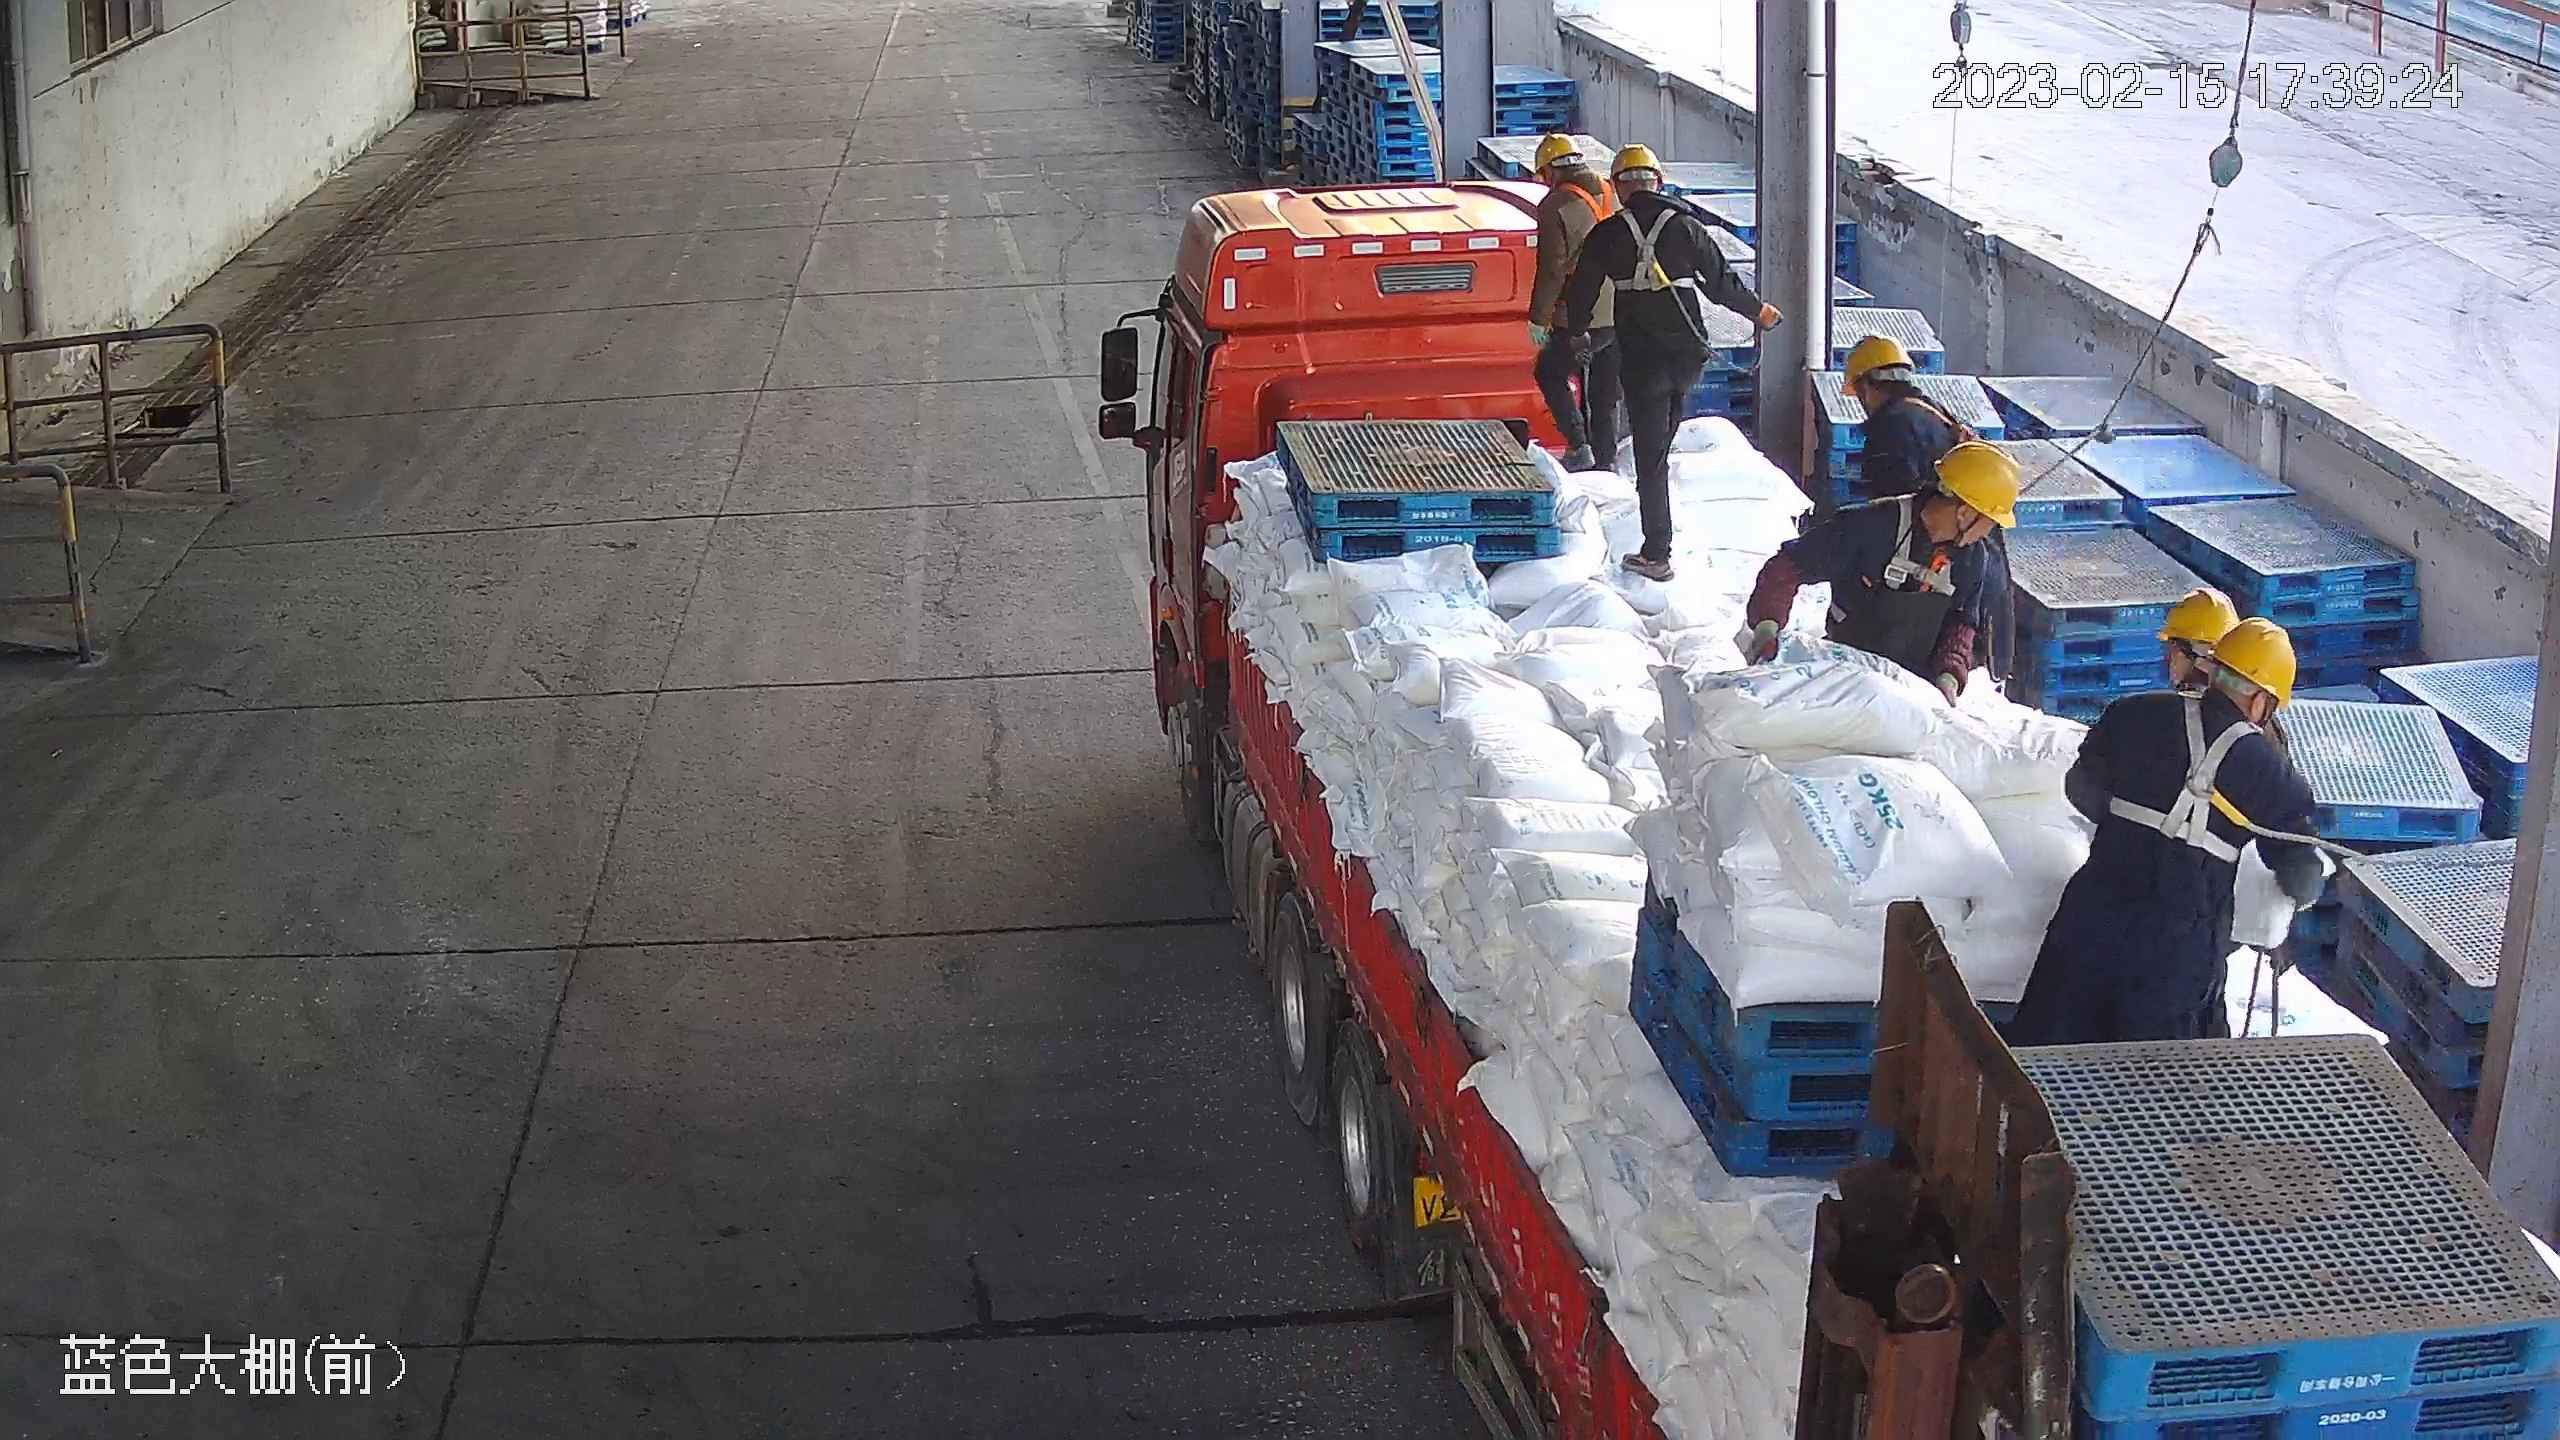head: (2094, 612, 2301, 863), (1842, 436, 2025, 602), (1836, 330, 1977, 480), (1600, 137, 1701, 262), (1532, 132, 1619, 236)
helmet: (1931, 434, 2025, 534), (2212, 612, 2299, 710), (2157, 584, 2246, 648), (1837, 331, 1918, 396), (1609, 143, 1668, 180), (1530, 131, 1585, 171)
people: (2009, 608, 2307, 1048), (1604, 136, 1785, 586), (1744, 418, 2014, 708), (1524, 129, 1628, 482)
truck: (1140, 167, 2560, 1438)
